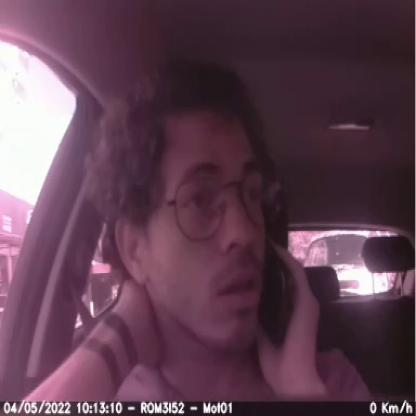phone: (257, 229, 297, 362)
